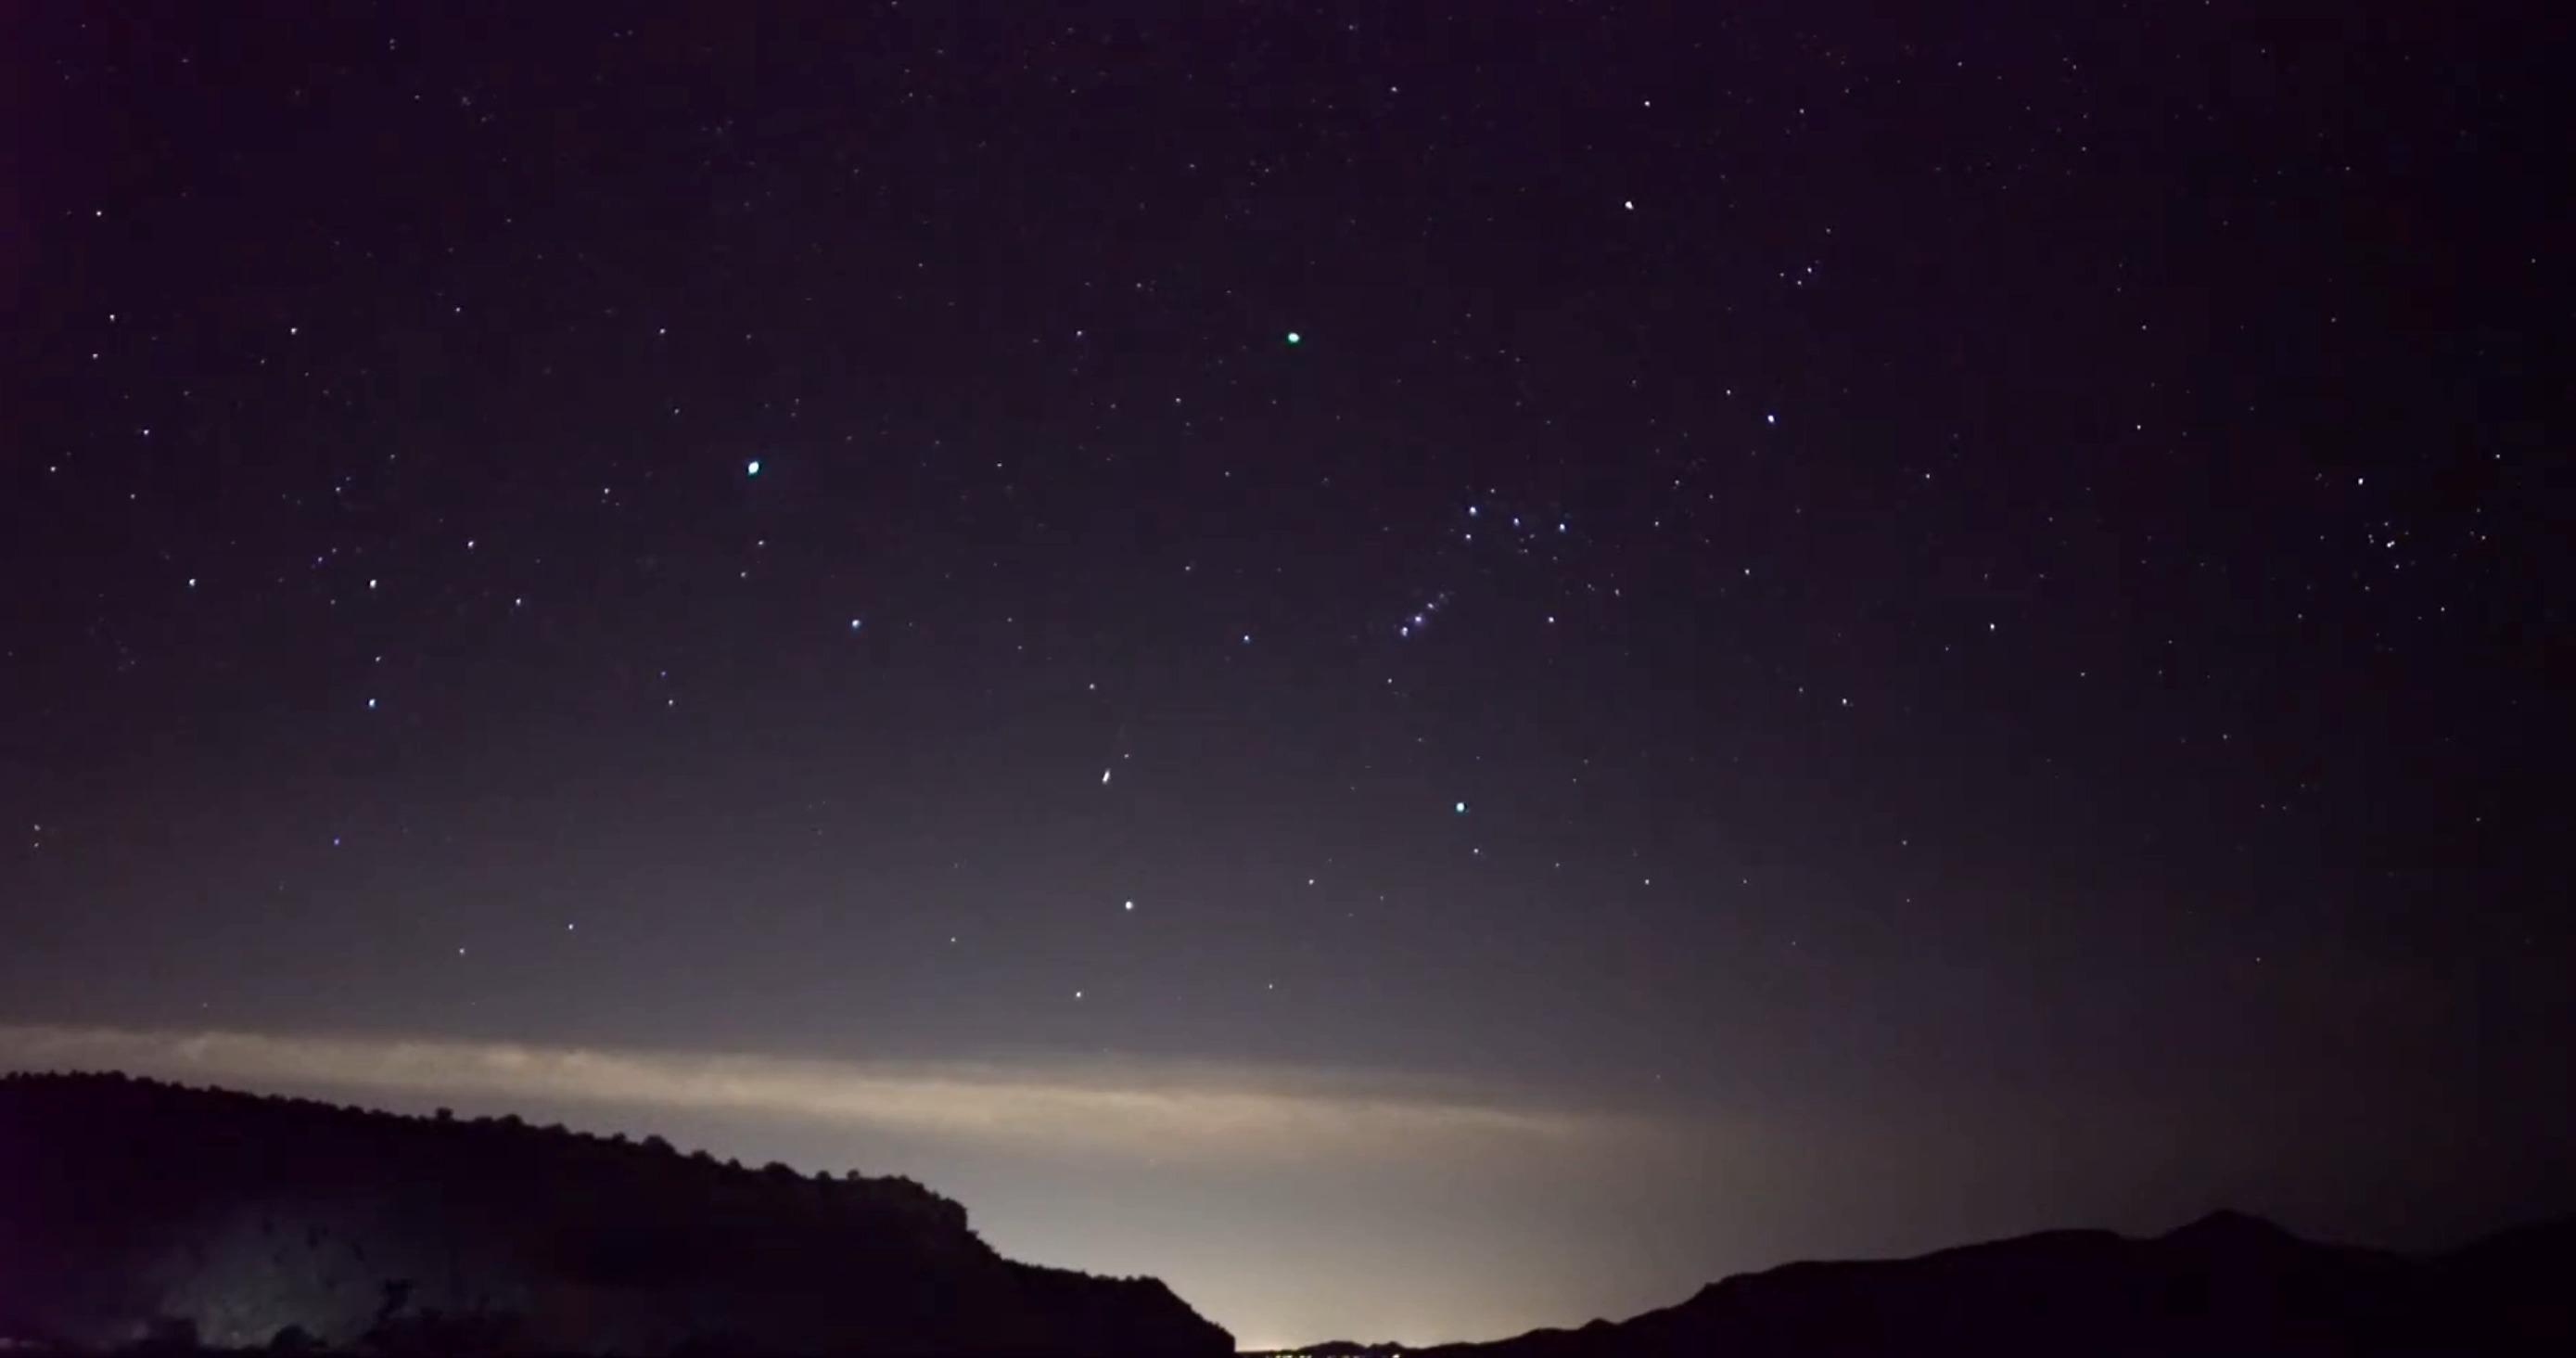meteorite: (1073, 757, 1150, 796)
